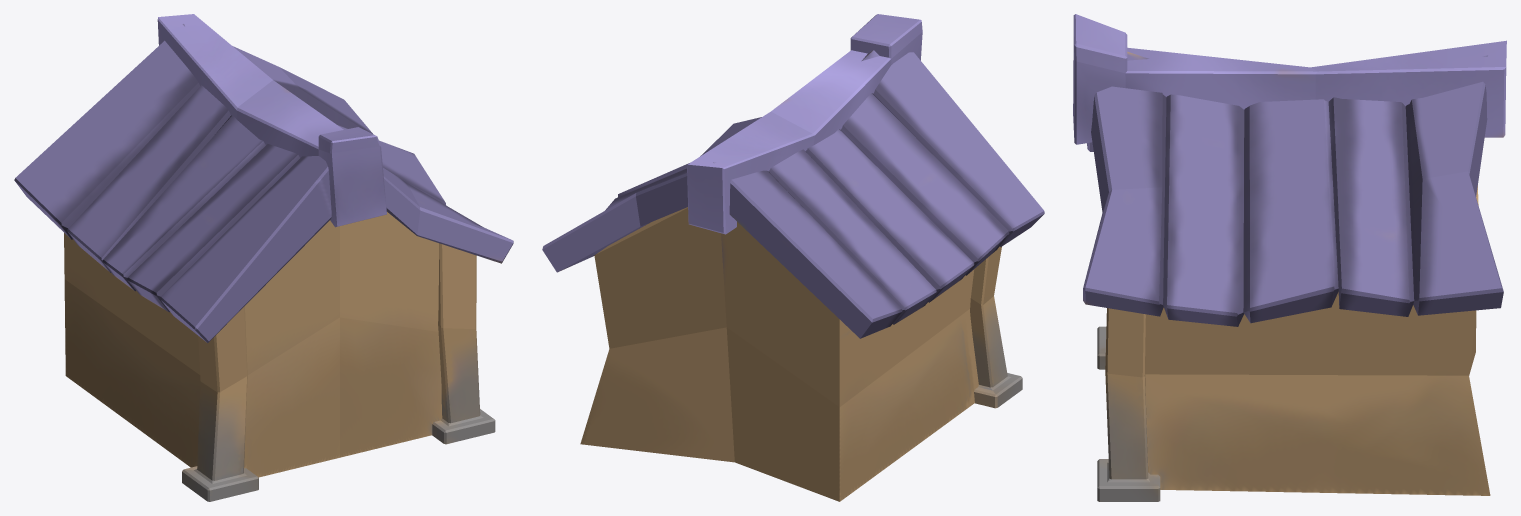
File: house 2.fbx
3 views of the same model, side by side, from view 1: azimuth 30°, elevation 25°; view 2: azimuth 150°, elevation 25°; view 3: azimuth 270°, elevation 25° (orthographic). The views are drawn at different scales.
Visible parts, largest first — view 1: Cube; view 2: Cube; view 3: Cube.
Boxes of the visible parts, box(x1,y1,x2,y2) form: Cube: box(14, 14, 513, 501); Cube: box(542, 14, 1044, 501); Cube: box(1073, 14, 1506, 501).
Size of the model in its own units: 212 by 208 by 209.
